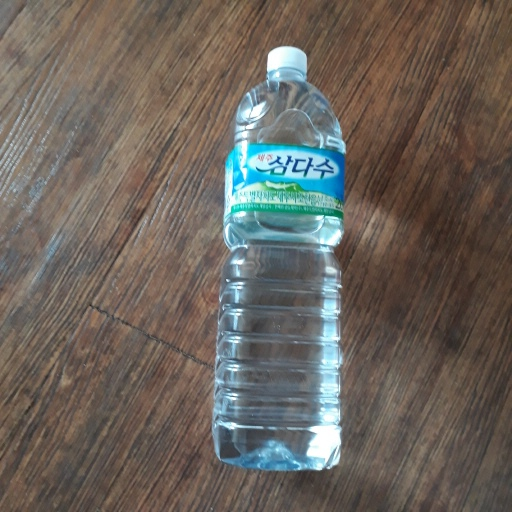Plastic_0: (208, 45, 345, 478)
